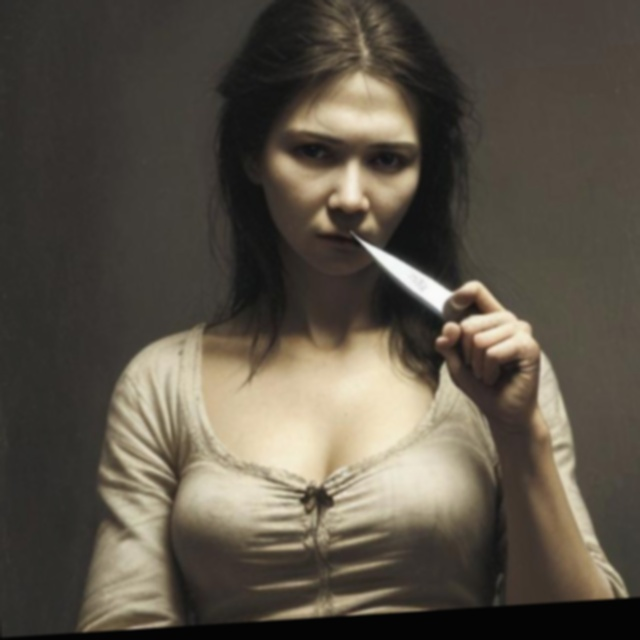Sharp-Object: (342, 203, 525, 389)
